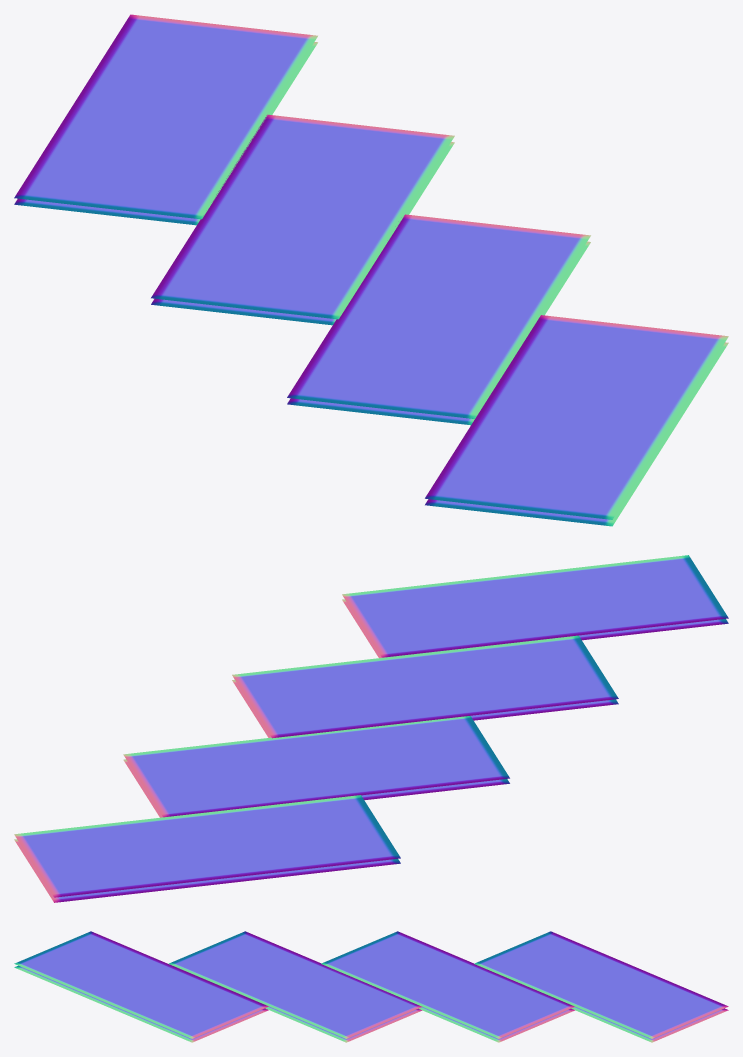
Rendered from SM_EastLands_Shide_01.fbx.
The picture shows the model from 3 angles, top to bottom: view 1: azimuth 30°, elevation 25°; view 2: azimuth 150°, elevation 25°; view 3: azimuth 270°, elevation 25°; orthographic projection. The views are drawn at different scales.
Visible parts, largest first — view 1: SM_EastLands_Shide_01; view 2: SM_EastLands_Shide_01; view 3: SM_EastLands_Shide_01.
Part boxes in pixels (x1,y1,x2,y2): SM_EastLands_Shide_01: (14,14,728,526); SM_EastLands_Shide_01: (14,555,728,902); SM_EastLands_Shide_01: (14,931,728,1042).
Size of the model in its own units: 25.91 by 0.41 by 72.6.
